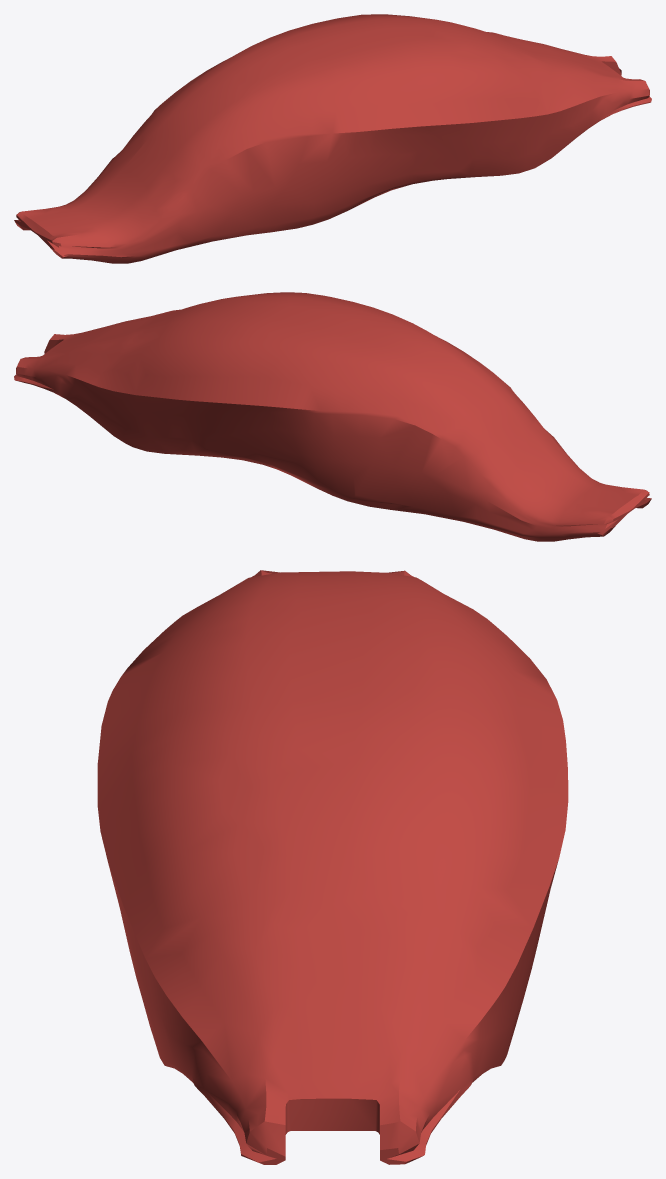
Rendered from sports_tourer_1_lod2.glb.
3 views of the same model, one above another, from view 1: azimuth 30°, elevation 25°; view 2: azimuth 150°, elevation 25°; view 3: azimuth 270°, elevation 25° (orthographic). The views are drawn at different scales.
Parts seen in each view (by area): view 1: sports_tourer_1_lod2; view 2: sports_tourer_1_lod2; view 3: sports_tourer_1_lod2.
Part boxes in pixels (x1,y1,x2,y2): sports_tourer_1_lod2: (14,14,651,263); sports_tourer_1_lod2: (14,292,651,541); sports_tourer_1_lod2: (97,570,568,1164).
Size of the model in its own units: 1.33 by 0.3009 by 0.4527.
